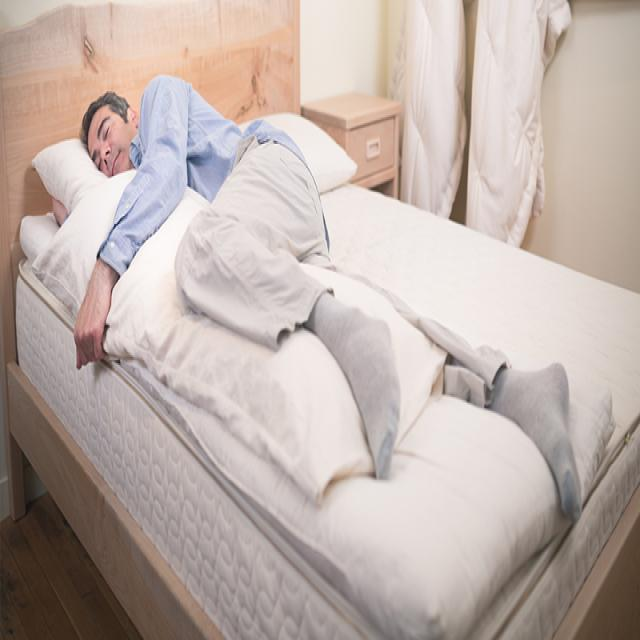sleeping-person: (68, 61, 590, 538)
